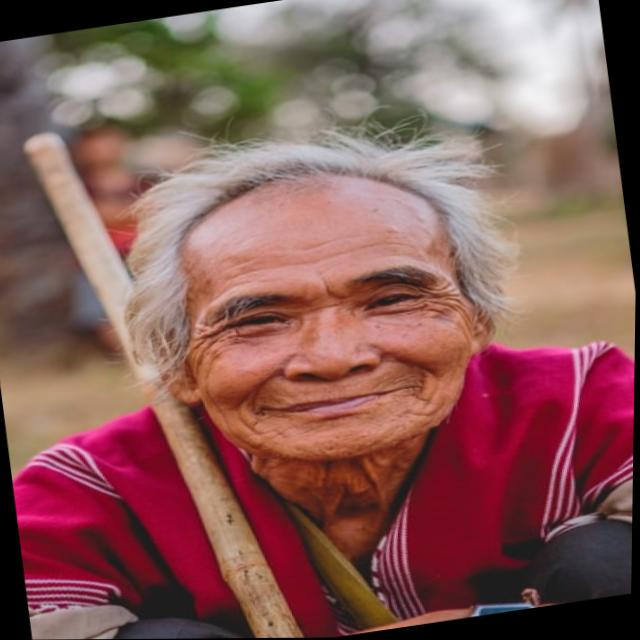wrinkle: (296, 232, 377, 251), (323, 247, 371, 260), (227, 271, 252, 282), (287, 260, 323, 267), (371, 243, 415, 247), (224, 266, 237, 273), (237, 260, 251, 266), (252, 269, 269, 271)
